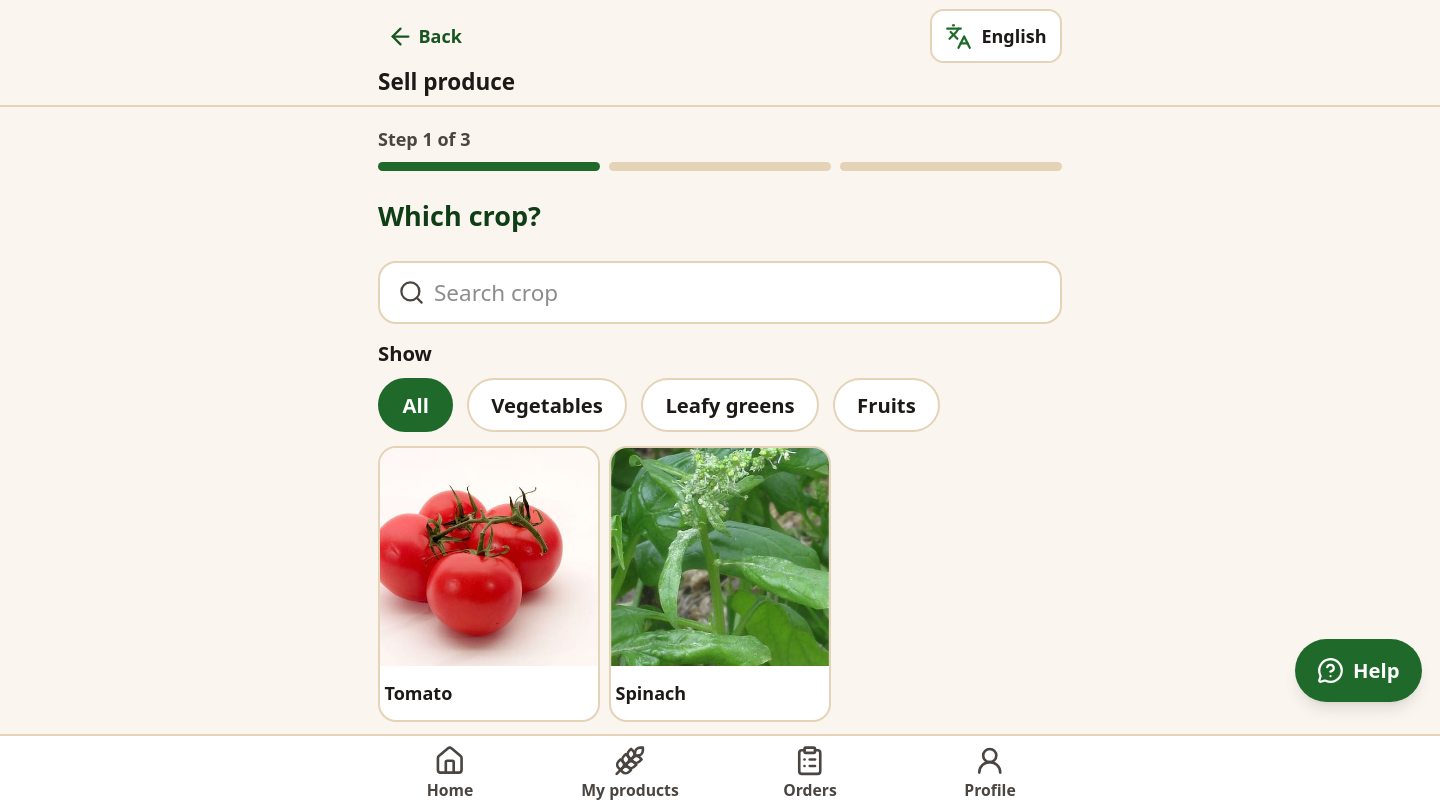
Scenario: Sell flow › sells in three steps without a photo: tap crop, quantity and price, publish
Click the button "Tomato" at (489, 584), box 378,446 -> 600,722
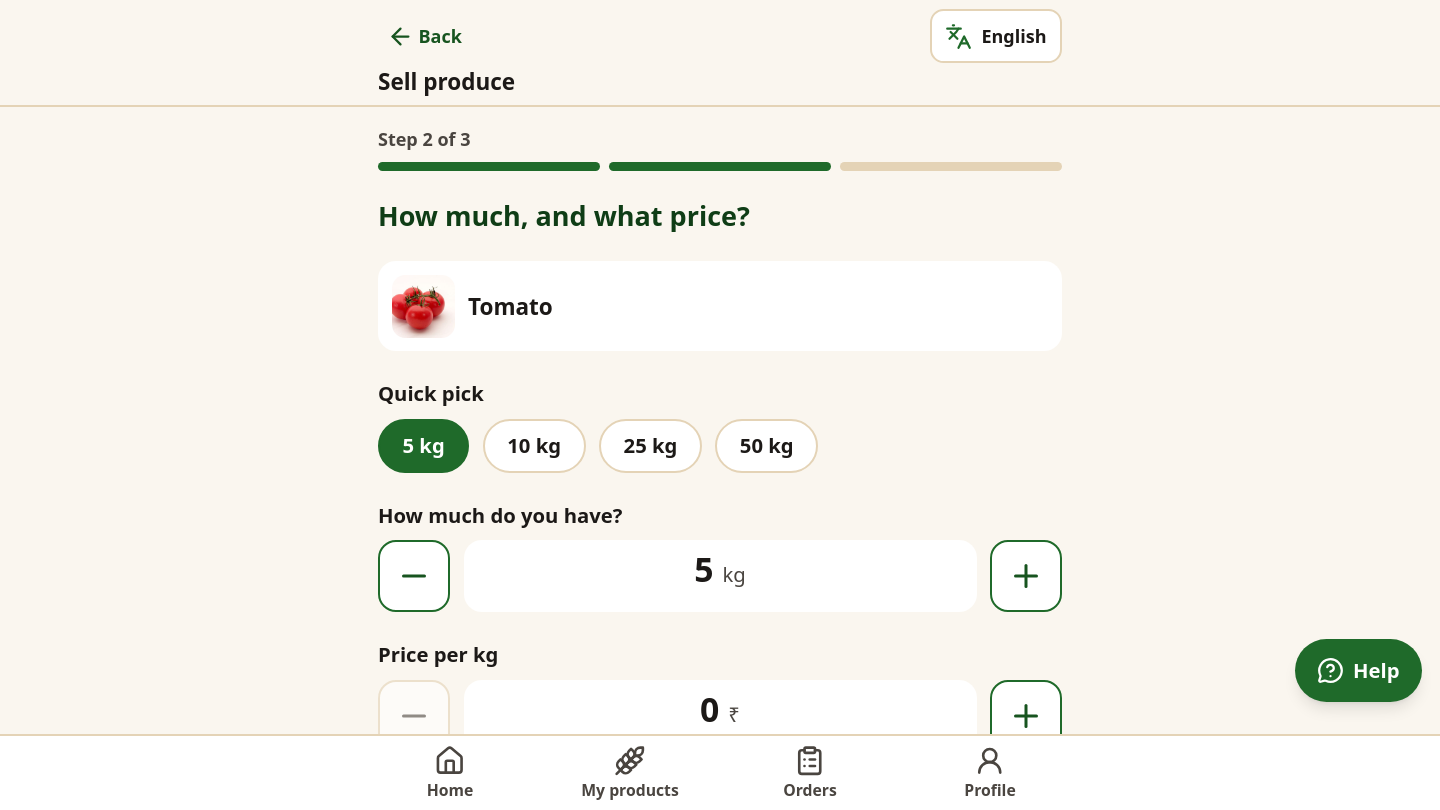
Check: the heading "How much, and what price?" is shown, box 378,197 -> 750,234
Click the radio button labelled "10 kg" at (534, 446), box 483,419 -> 586,473
(page scrolled)
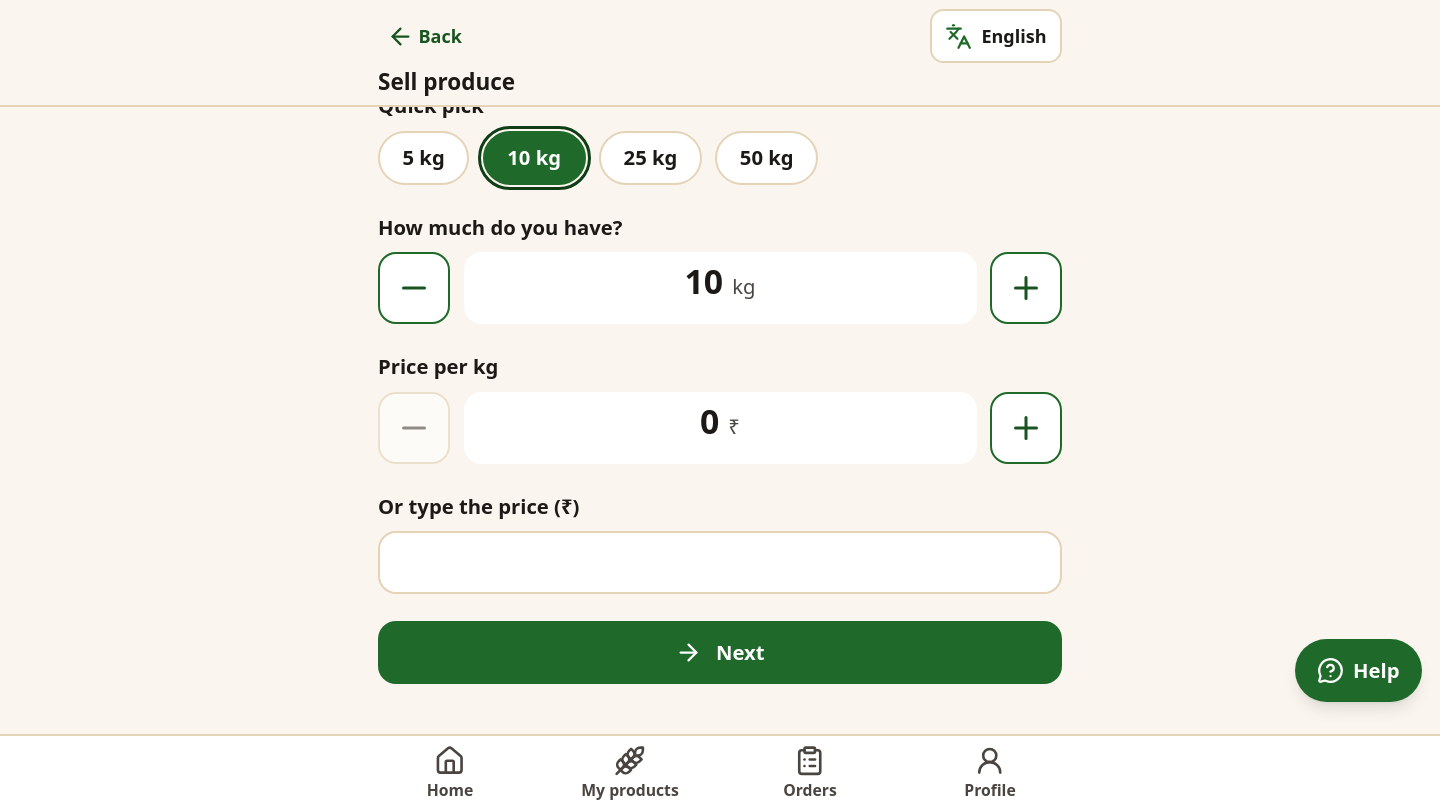
Type "30" into the field labelled "Or type the price (₹)" at (720, 563), box 380,534 -> 1060,592
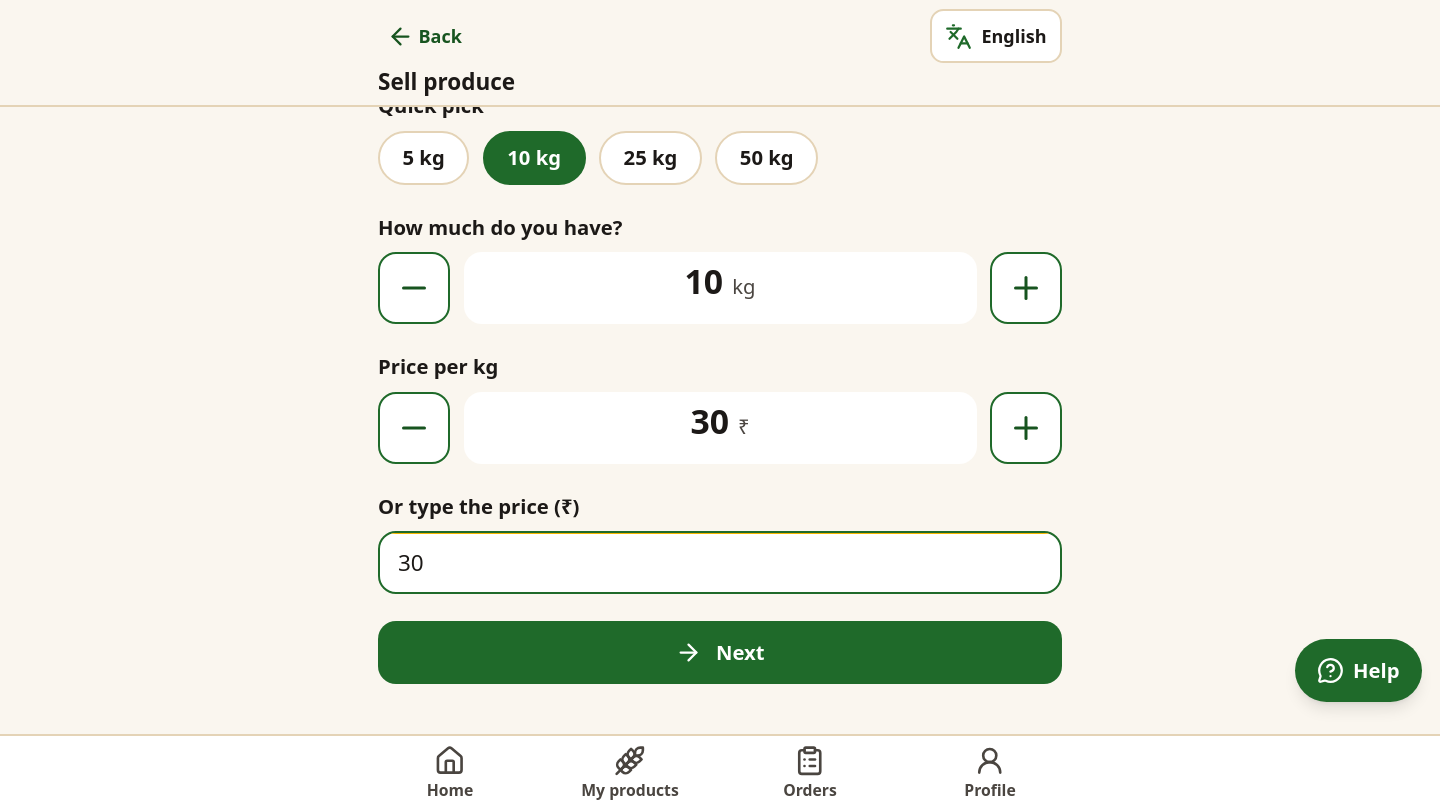
Click the button "Next" at (720, 653), box 378,621 -> 1062,684
(page scrolled)
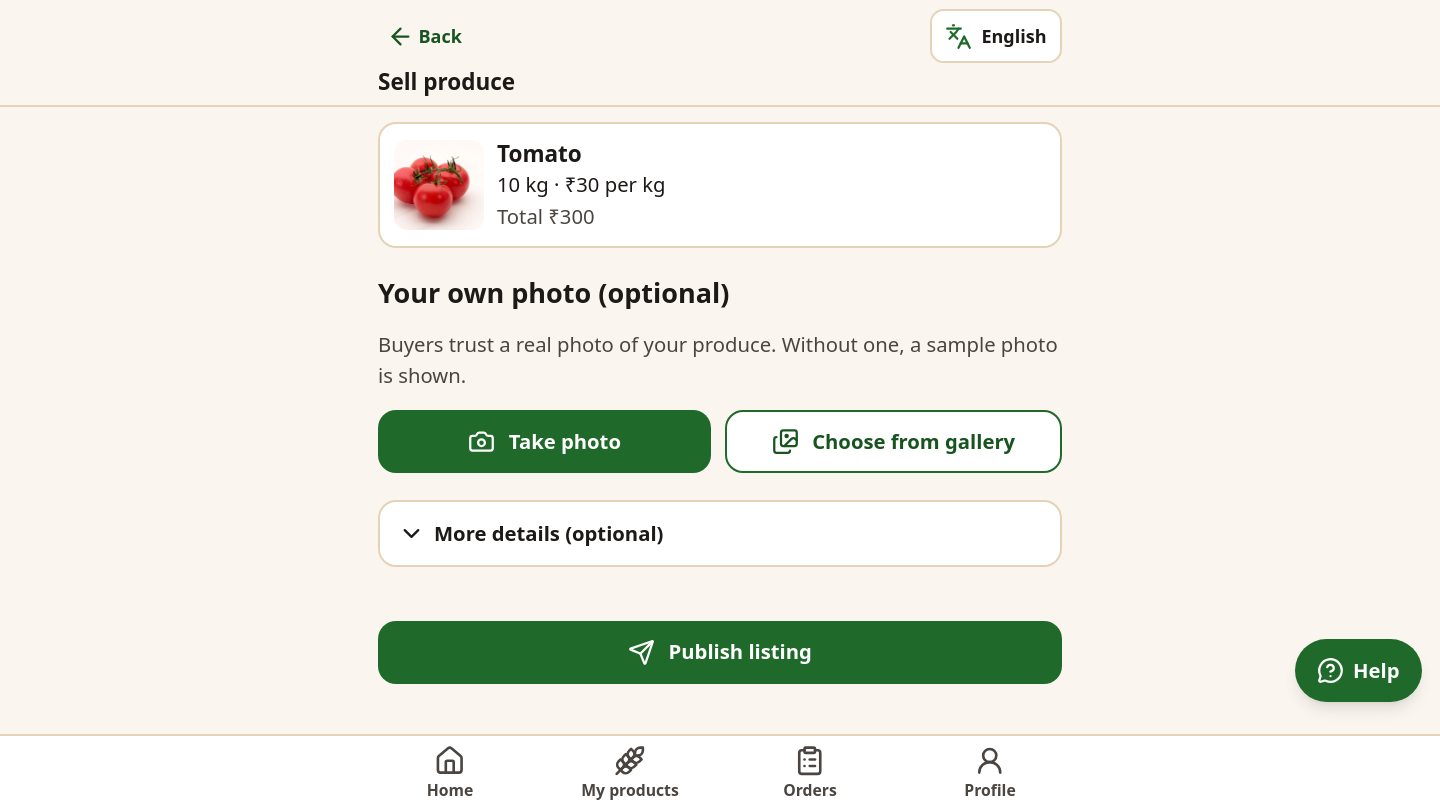
Check: the heading "Photo and publish" is shown, box 378,58 -> 623,95
Check: the text "10 kg · ₹30 per kg" is shown, box 497,169 -> 666,201
Check: the text "Total ₹300" is shown, box 497,202 -> 595,230
Click the button "Publish listing" at (720, 652), box 378,621 -> 1062,684
(page scrolled)
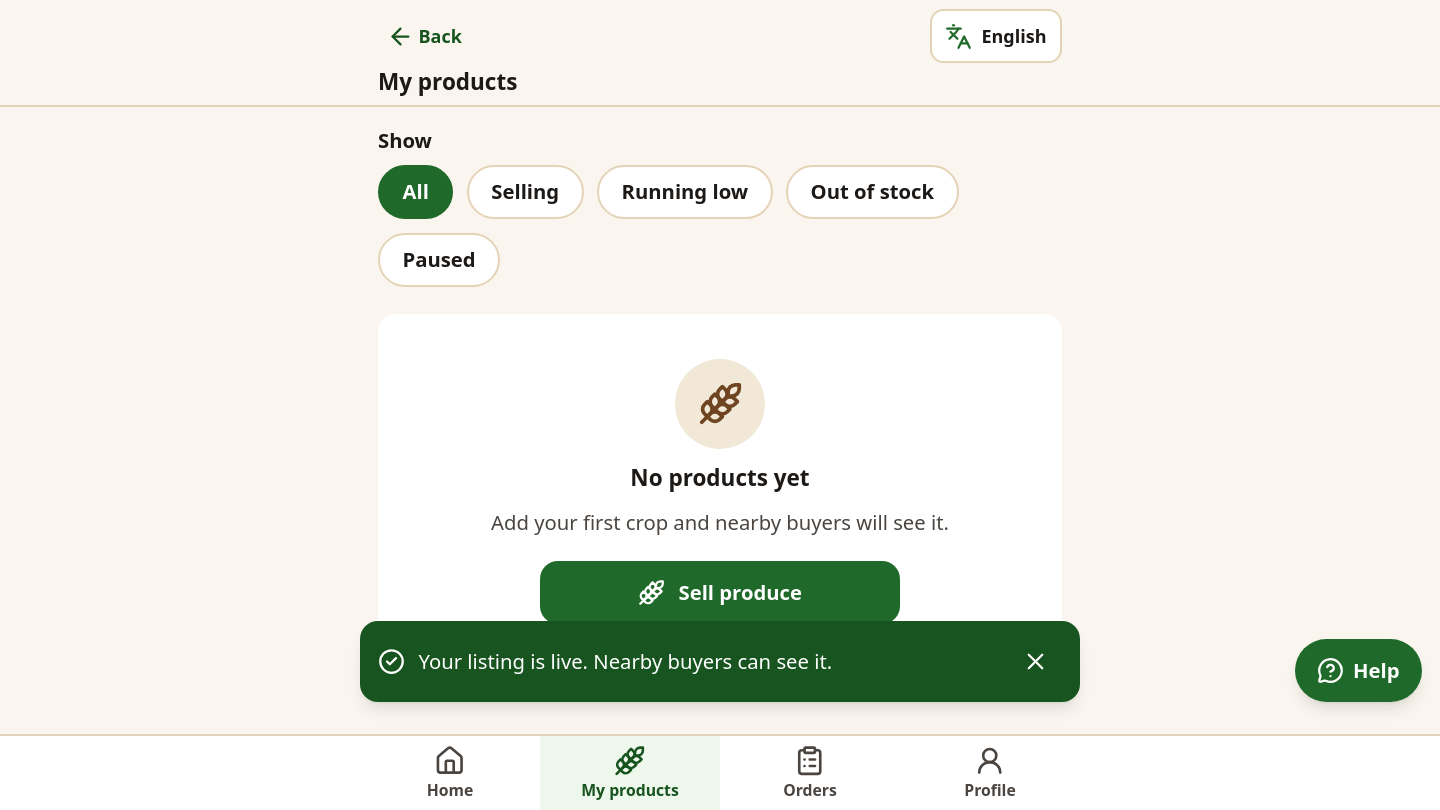
Check: the text "Your listing is live. Nearby buyers can see it." is shown, box 418,647 -> 832,675
